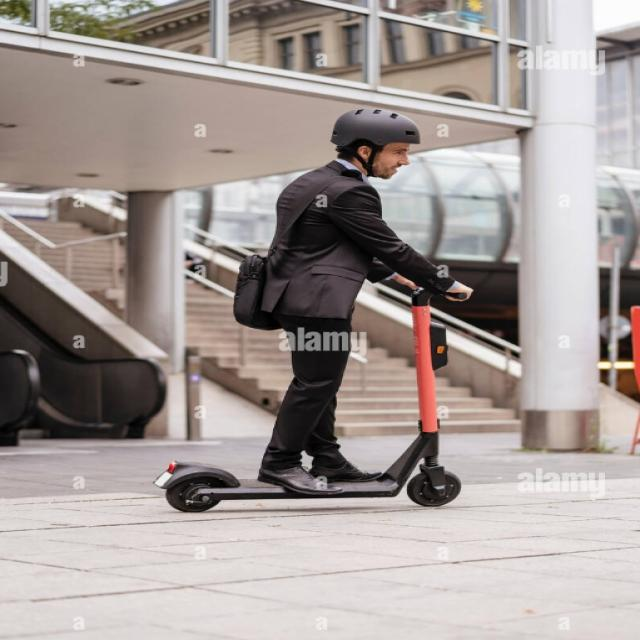helmet: (117, 76, 481, 510)
